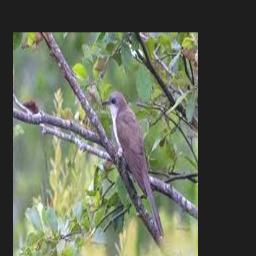Cuckoo: (103, 92, 164, 238)
